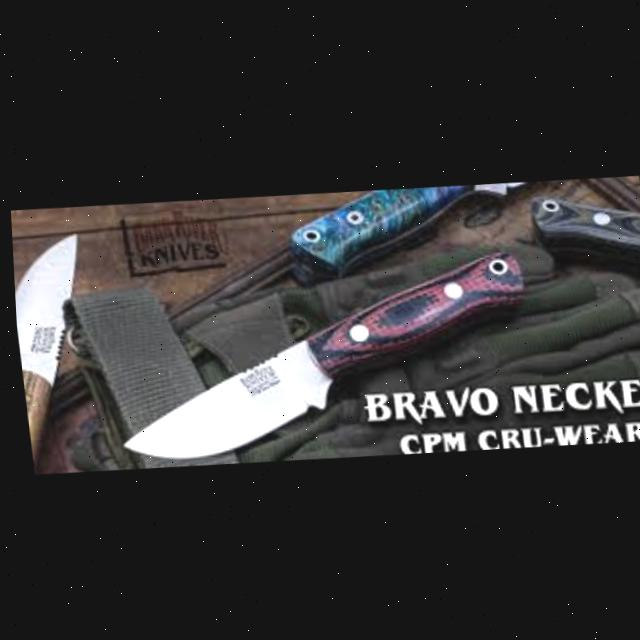knife: (96, 241, 540, 466), (148, 176, 540, 324), (9, 231, 99, 475)
